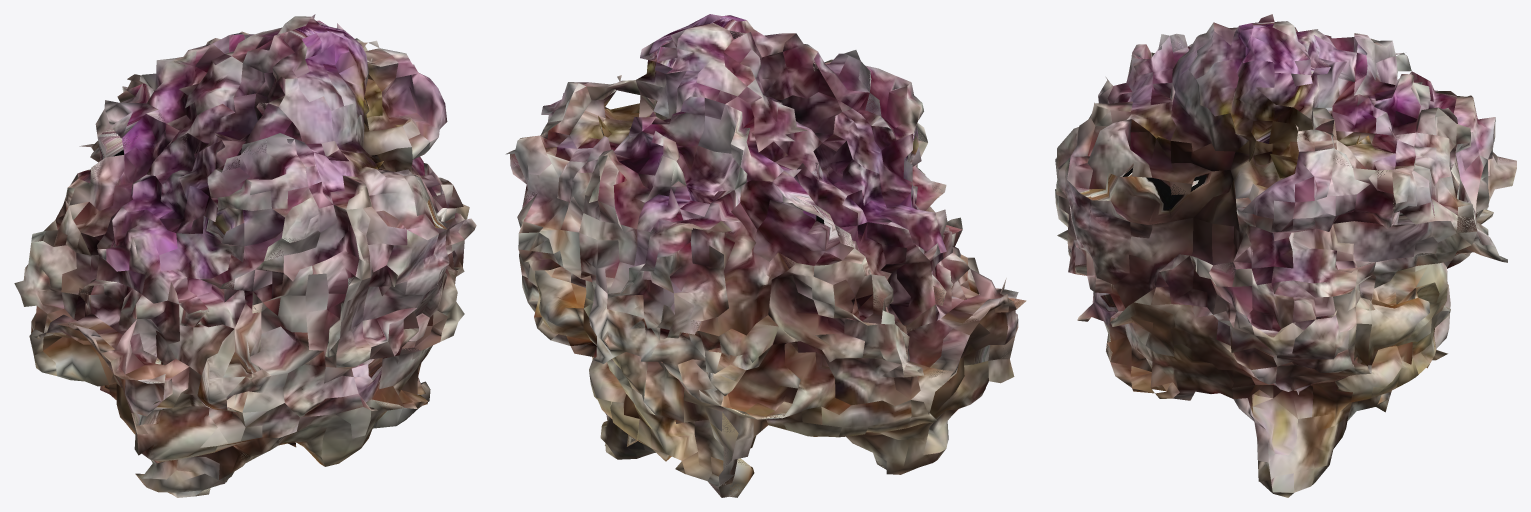
3 views of the same model, side by side, from view 1: azimuth 30°, elevation 25°; view 2: azimuth 150°, elevation 25°; view 3: azimuth 270°, elevation 25° (orthographic). The views are drawn at different scales.
Parts seen in each view (by area): view 1: ac3a99d9; view 2: ac3a99d9; view 3: ac3a99d9.
Boxes of the visible parts, x1,y1,x2,y2 form: ac3a99d9: (14,14,476,497); ac3a99d9: (505,14,1026,497); ac3a99d9: (1055,14,1516,497).
Bounding box in the file's own units: 0.1128 × 0.1107 × 0.1084.
Materials: 1 (1 with a texture image).
